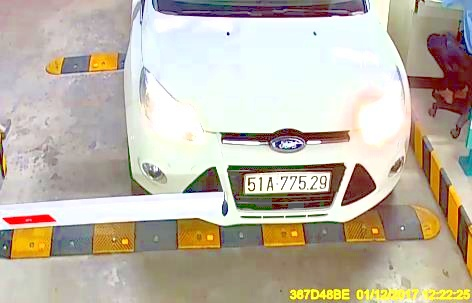plate: (242, 168, 331, 201)
